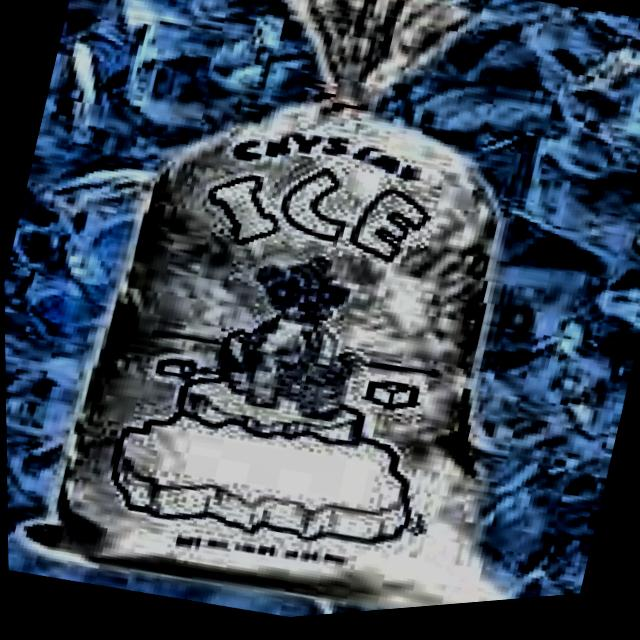Plastic: (25, 0, 640, 638)
